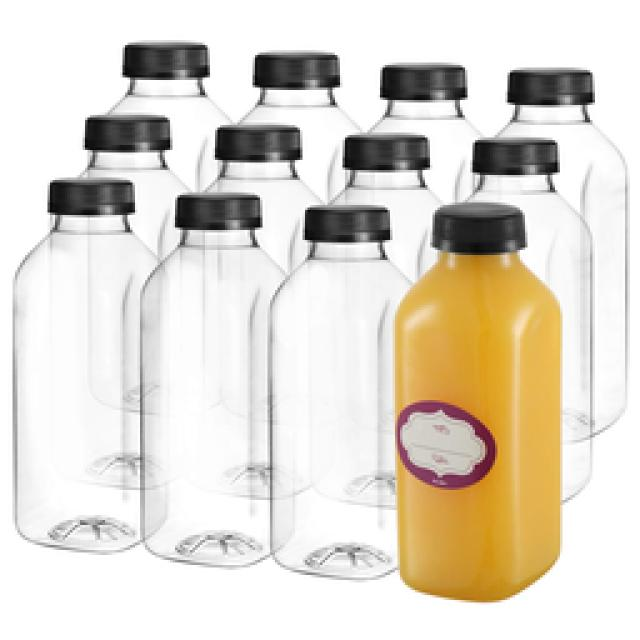plastic_water_bottles: (402, 195, 575, 593), (12, 165, 145, 557), (148, 187, 278, 565), (278, 204, 400, 578)
